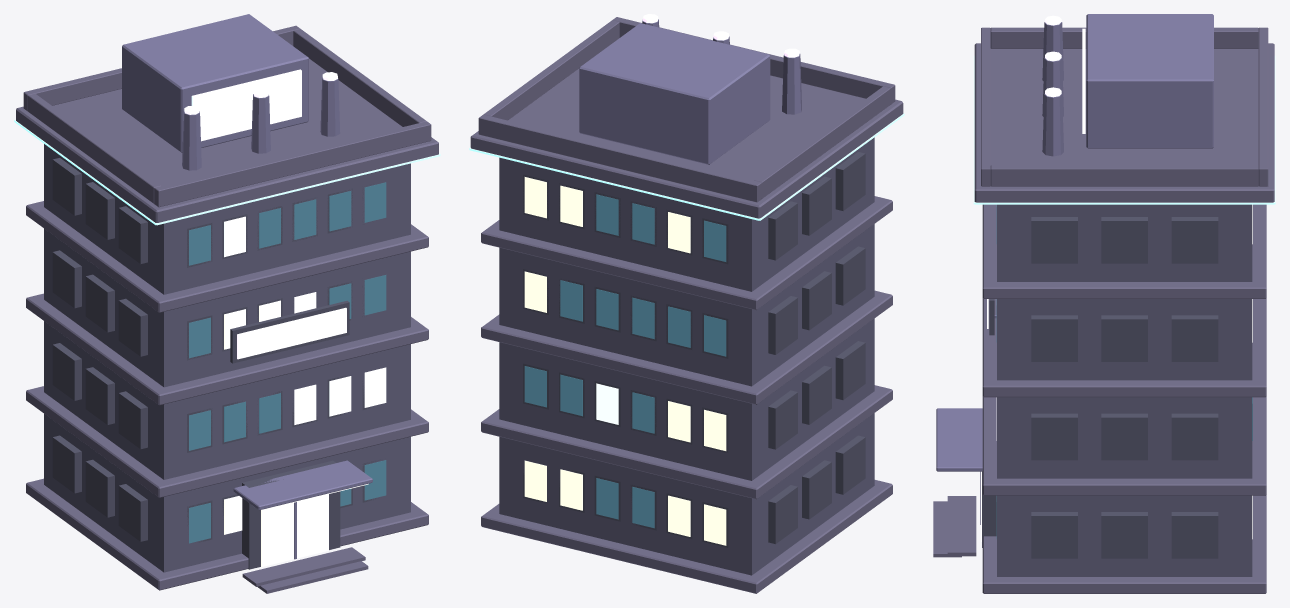
Rendered from lab_block_b.glb.
3 views of the same model, side by side, from view 1: azimuth 30°, elevation 25°; view 2: azimuth 150°, elevation 25°; view 3: azimuth 270°, elevation 25° (orthographic). The views are drawn at different scales.
Visible parts, largest first — view 1: lab_block_b_Graphite@academic, lab_block_b_Concrete@academic, lab_block_b_DarkAlloy@academic, lab_block_b_Steel@academic, lab_block_b_BlackGlass, lab_block_b_CoolGlass, lab_block_b_WarmGlass, lab_block_b_Violet, lab_block_b_Cyan; view 2: lab_block_b_Graphite@academic, lab_block_b_Concrete@academic, lab_block_b_DarkAlloy@academic, lab_block_b_Steel@academic, lab_block_b_BlackGlass, lab_block_b_WarmGlass, lab_block_b_Cyan, lab_block_b_CoolGlass; view 3: lab_block_b_Concrete@academic, lab_block_b_Graphite@academic, lab_block_b_DarkAlloy@academic, lab_block_b_Steel@academic, lab_block_b_Cyan, lab_block_b_Violet, lab_block_b_CoolGlass.
Part boxes in pixels (x1,y1,x2,y2): lab_block_b_Graphite@academic: (44, 144, 410, 572); lab_block_b_Concrete@academic: (16, 25, 438, 593); lab_block_b_DarkAlloy@academic: (52, 158, 380, 569); lab_block_b_Steel@academic: (122, 14, 372, 559); lab_block_b_BlackGlass: (189, 182, 386, 543); lab_block_b_CoolGlass: (191, 69, 386, 416); lab_block_b_WarmGlass: (224, 300, 328, 566); lab_block_b_Violet: (184, 72, 368, 510); lab_block_b_Cyan: (14, 119, 440, 225); lab_block_b_Graphite@academic: (499, 137, 874, 575); lab_block_b_Concrete@academic: (470, 17, 903, 593); lab_block_b_DarkAlloy@academic: (523, 152, 865, 547); lab_block_b_Steel@academic: (579, 19, 801, 164); lab_block_b_BlackGlass: (524, 194, 726, 528); lab_block_b_WarmGlass: (524, 177, 726, 545); lab_block_b_Cyan: (469, 113, 904, 220); lab_block_b_CoolGlass: (596, 383, 618, 424); lab_block_b_Concrete@academic: (933, 27, 1274, 593); lab_block_b_Graphite@academic: (997, 204, 1252, 576); lab_block_b_DarkAlloy@academic: (982, 217, 1218, 558); lab_block_b_Steel@academic: (936, 14, 1213, 524); lab_block_b_Cyan: (973, 55, 1275, 204); lab_block_b_Violet: (987, 15, 1061, 328); lab_block_b_CoolGlass: (996, 28, 1085, 440).
Size of the model in its own units: 10.96 by 16.75 by 10.73.
